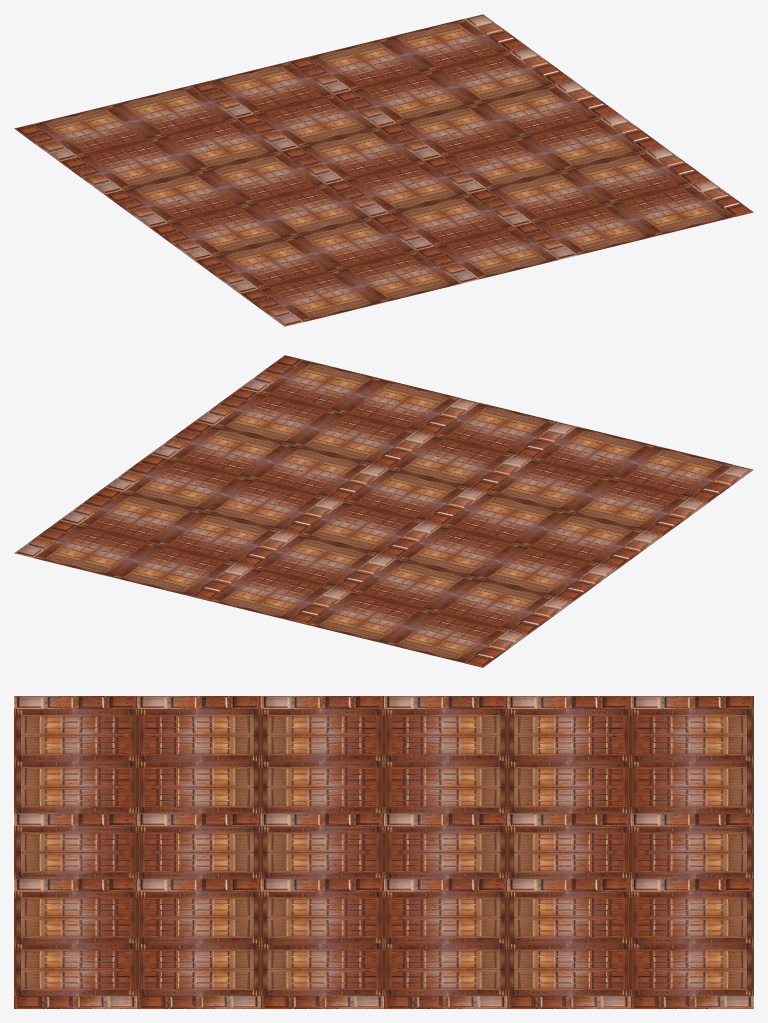
The model's file is env_start_room_ceiling.FBX.
The picture shows the model from 3 angles, top to bottom: view 1: azimuth 30°, elevation 25°; view 2: azimuth 150°, elevation 25°; view 3: azimuth 270°, elevation 25°; orthographic projection. The views are drawn at different scales.
Visible parts, largest first — view 1: env_start_room_ceiling; view 2: env_start_room_ceiling; view 3: env_start_room_ceiling.
Part boxes in pixels (x1,y1,x2,y2): env_start_room_ceiling: (14, 14, 753, 326); env_start_room_ceiling: (14, 355, 753, 667); env_start_room_ceiling: (14, 696, 753, 1008).
Size of the model in its own units: 472 by 0.7877 by 472.
1 material, 1 textured.
